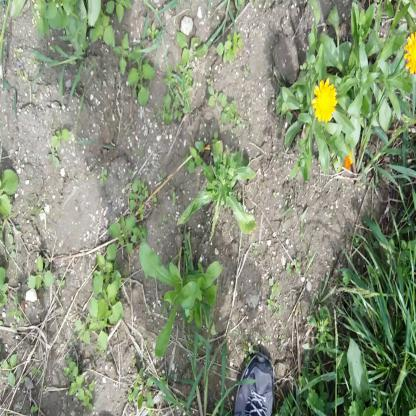marigold: (314, 78, 338, 119)
